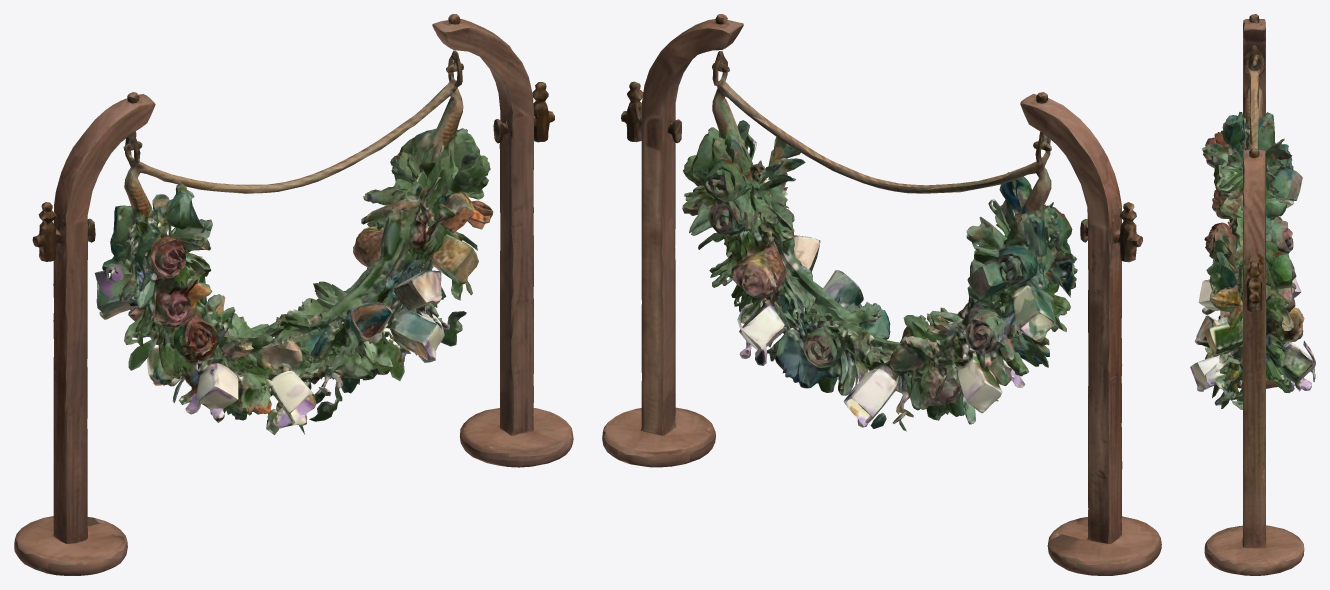
Rendered from bunting.glb.
The picture shows the model from 3 angles, left to right: view 1: azimuth 30°, elevation 25°; view 2: azimuth 150°, elevation 25°; view 3: azimuth 270°, elevation 25°; orthographic projection. The views are drawn at different scales.
Parts seen in each view (by area): view 1: geometry_0; view 2: geometry_0; view 3: geometry_0.
Boxes of the visible parts, x1,y1,x2,y2 form: geometry_0: (14, 14, 573, 575); geometry_0: (602, 14, 1161, 575); geometry_0: (1190, 14, 1315, 575).
Size of the model in its own units: 0.8 by 0.6276 by 0.1874.
Materials: 1 (1 with a texture image).
